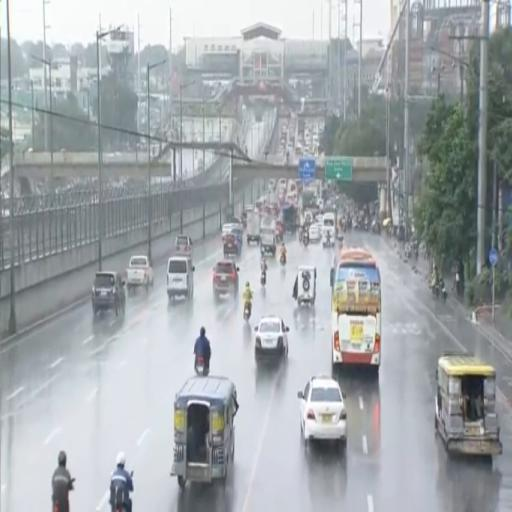bus: (331, 249, 381, 373)
car: (298, 376, 347, 447), (254, 316, 289, 362), (92, 271, 125, 315), (213, 260, 238, 299), (175, 234, 193, 259), (309, 224, 321, 243), (279, 179, 287, 187), (269, 179, 275, 189)
jeepney: (171, 376, 238, 488), (435, 354, 502, 455)
motorcycle: (111, 488, 127, 511), (432, 280, 447, 302), (195, 357, 208, 376), (439, 280, 447, 302), (244, 302, 252, 321), (53, 502, 68, 511), (260, 270, 266, 286), (405, 243, 411, 259), (298, 227, 304, 242), (303, 232, 309, 246), (280, 253, 286, 265), (364, 218, 369, 232), (342, 219, 347, 231)
truck: (126, 255, 154, 292), (260, 218, 276, 255), (246, 212, 260, 244), (282, 203, 296, 233)
